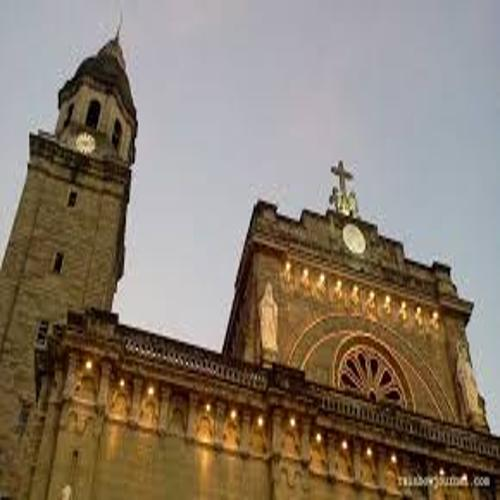Manila Cathedral Church: (8, 13, 492, 492)
